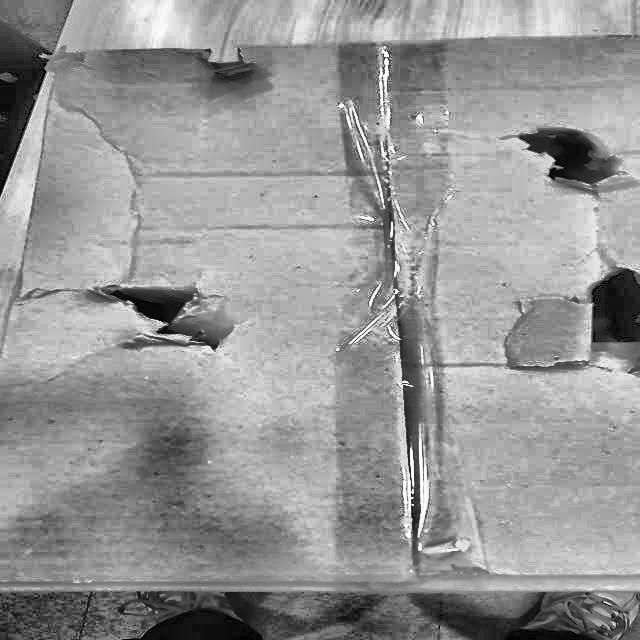box: (0, 26, 639, 605)
hole: (75, 284, 236, 347), (490, 124, 631, 190), (569, 266, 640, 349), (192, 44, 260, 82)
